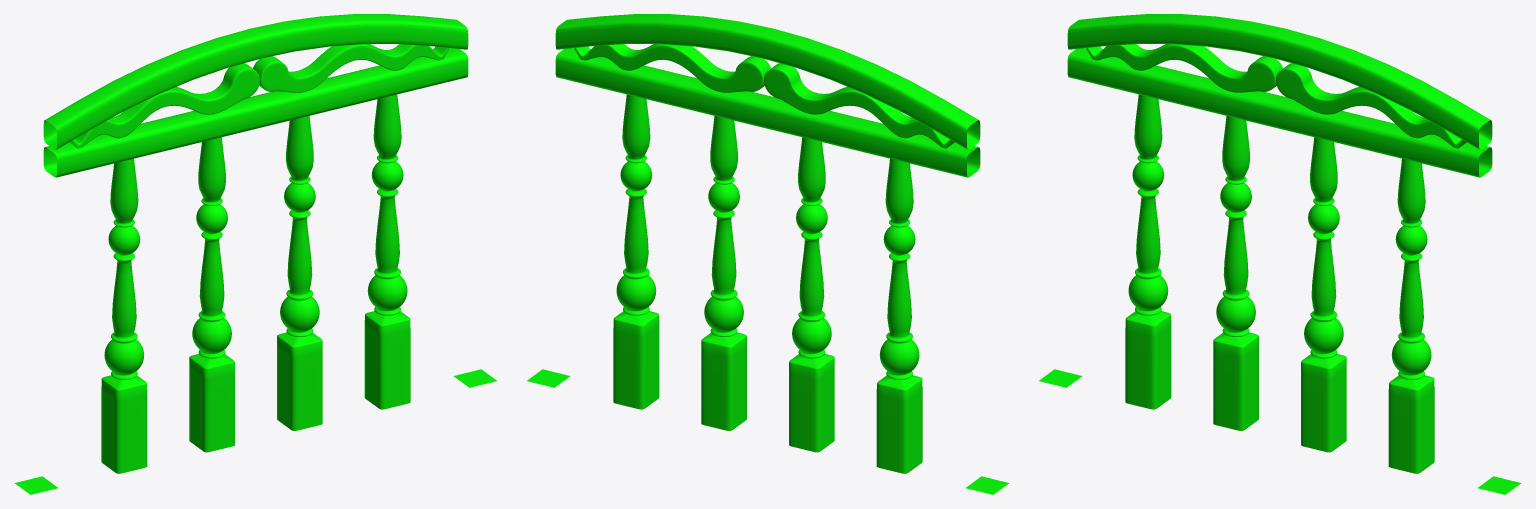
File: sub_WoodHandrail002.fbx
3 views of the same model, side by side, from view 1: azimuth 30°, elevation 25°; view 2: azimuth 150°, elevation 25°; view 3: azimuth 330°, elevation 25° (orthographic).
Visible parts, largest first — view 1: sub_WoodHandrail002; view 2: sub_WoodHandrail002; view 3: sub_WoodHandrail002.
Boxes of the visible parts, x1,y1,x2,y2 form: sub_WoodHandrail002: (14, 14, 496, 494); sub_WoodHandrail002: (527, 14, 1009, 494); sub_WoodHandrail002: (1039, 14, 1521, 494).
Size of the model in its own units: 2.13 by 1.74 by 0.1569.
